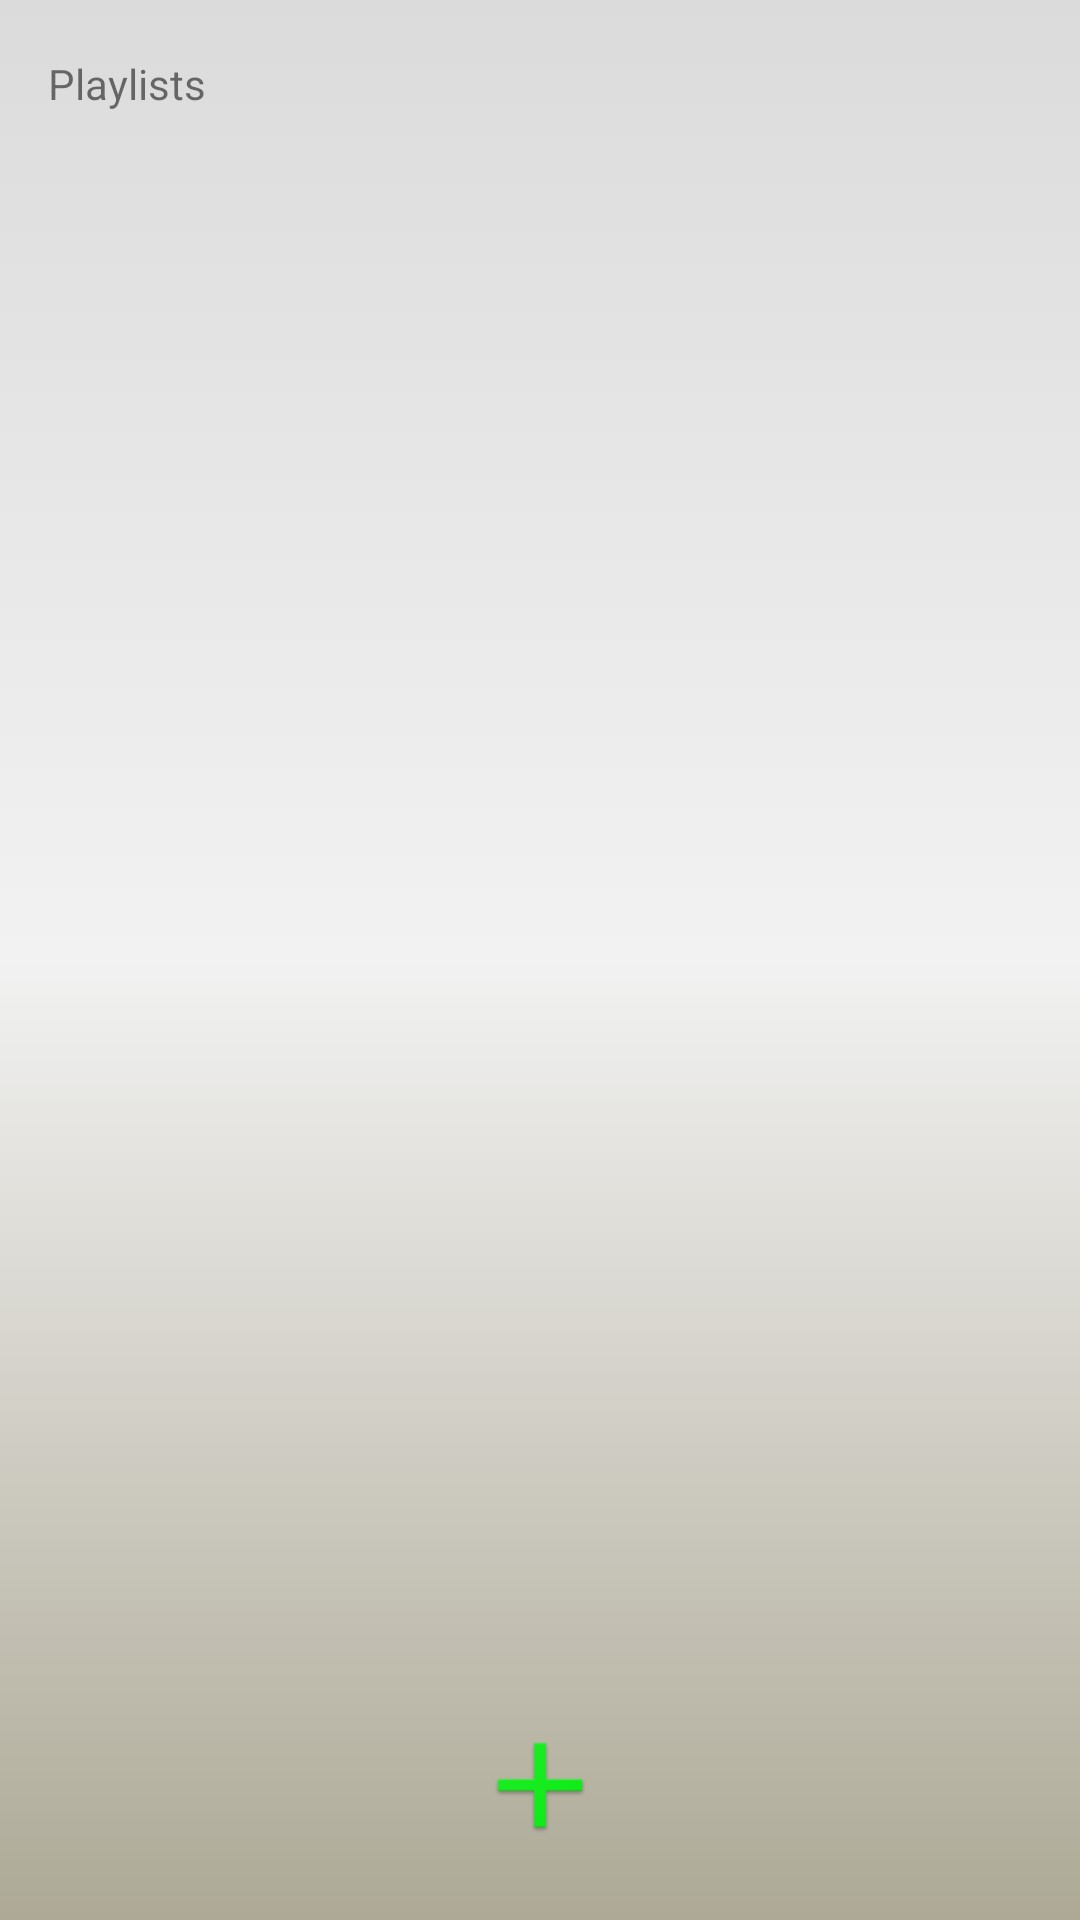

Named icons in this screenshot (1080 x 1920) and their bounding boxes, [x1,y1,x2,y2]:
additem: [497,1742,583,1830]
